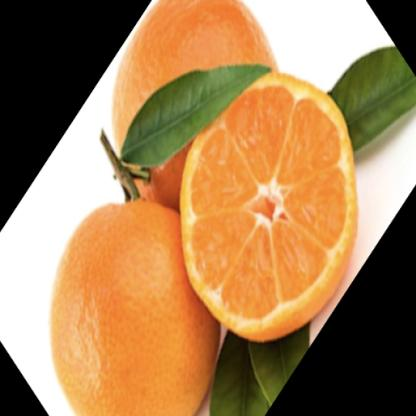fresh: (49, 2, 362, 416)
